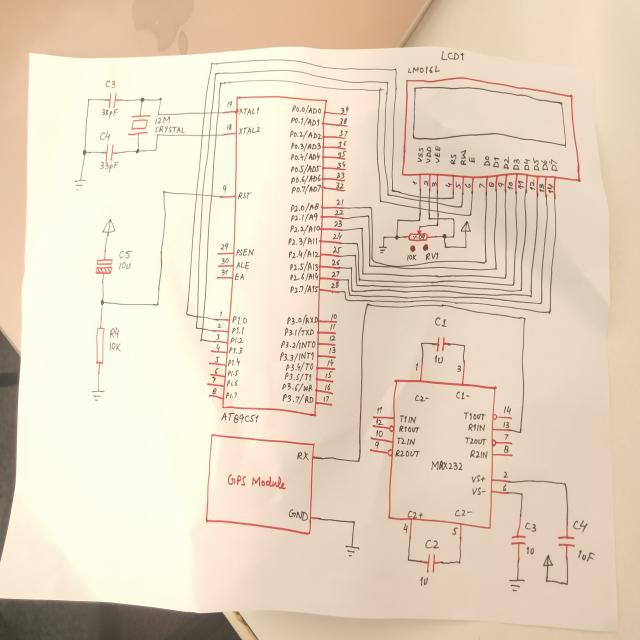capacitor: (95, 257, 114, 276), (556, 534, 576, 550), (105, 91, 121, 109), (425, 553, 438, 574), (104, 143, 118, 162), (510, 532, 527, 547), (435, 335, 446, 353)
crossover: (200, 326, 204, 332), (196, 314, 200, 320), (202, 314, 206, 320), (210, 193, 214, 198), (214, 133, 218, 137), (201, 192, 204, 197), (217, 110, 220, 115), (200, 133, 203, 138), (195, 192, 198, 197), (203, 111, 206, 115), (210, 110, 213, 114), (208, 133, 211, 137), (436, 201, 439, 205), (418, 199, 422, 202), (418, 207, 422, 210), (428, 208, 431, 212), (436, 210, 440, 213), (419, 195, 422, 198), (428, 196, 431, 199), (436, 197, 439, 200), (428, 200, 430, 203)
ground: (508, 577, 526, 592), (344, 544, 360, 558), (541, 554, 554, 569), (91, 389, 105, 402), (74, 179, 87, 191), (378, 245, 387, 254)
junction: (99, 298, 106, 306), (81, 148, 88, 156), (134, 146, 141, 154), (139, 96, 145, 104), (544, 576, 550, 584), (546, 308, 552, 316), (517, 428, 523, 436), (562, 480, 568, 488), (502, 274, 508, 282), (510, 281, 516, 288), (519, 490, 524, 498), (457, 558, 462, 566), (483, 258, 488, 266), (493, 264, 498, 272), (394, 234, 400, 240), (356, 458, 362, 464), (564, 580, 570, 586), (155, 301, 160, 308), (522, 315, 527, 322), (419, 340, 424, 347), (184, 310, 189, 317), (162, 188, 166, 196), (406, 557, 411, 563), (351, 519, 356, 525), (86, 96, 91, 102), (395, 217, 400, 223), (158, 96, 163, 102), (393, 66, 398, 72), (360, 270, 365, 276), (385, 80, 390, 86), (194, 325, 199, 331), (442, 233, 447, 239), (462, 342, 466, 349), (154, 146, 158, 153), (199, 337, 203, 344), (378, 85, 382, 92), (371, 256, 375, 263), (210, 61, 214, 67), (378, 198, 382, 204), (529, 293, 533, 299), (539, 300, 543, 306), (368, 263, 372, 269), (366, 302, 370, 307), (519, 287, 523, 292), (214, 71, 218, 76), (355, 242, 359, 247), (382, 235, 386, 240), (464, 245, 468, 249), (386, 193, 390, 197), (344, 298, 348, 302), (219, 81, 222, 86), (361, 226, 364, 231), (366, 214, 369, 219), (444, 245, 447, 249), (418, 218, 421, 222), (346, 278, 349, 282), (156, 133, 159, 137), (436, 223, 439, 227), (452, 234, 455, 238), (452, 217, 455, 221), (469, 212, 472, 216), (427, 217, 431, 220), (391, 188, 394, 192), (355, 283, 358, 287), (358, 278, 361, 282), (351, 289, 354, 293), (348, 294, 351, 298), (350, 266, 352, 271), (354, 253, 356, 258), (157, 112, 160, 115), (370, 206, 372, 210), (460, 204, 462, 208), (452, 196, 454, 200), (344, 290, 346, 294)
resistor: (406, 227, 435, 242), (95, 327, 106, 365)
source: (102, 218, 116, 233), (460, 220, 471, 234)
text: (227, 472, 286, 491), (221, 411, 260, 426), (430, 458, 464, 473), (406, 64, 444, 76), (282, 393, 314, 405), (288, 248, 320, 260), (438, 50, 465, 64), (280, 340, 316, 350), (286, 314, 318, 325), (290, 164, 322, 175), (279, 352, 314, 362), (290, 173, 321, 184), (290, 261, 318, 273), (290, 116, 320, 127), (282, 382, 312, 393), (290, 224, 320, 235), (290, 130, 322, 140), (290, 284, 319, 295), (288, 236, 317, 247), (292, 104, 322, 114), (284, 327, 314, 337), (291, 142, 321, 152), (290, 152, 320, 162), (291, 184, 321, 194), (288, 508, 309, 522), (285, 362, 314, 372), (290, 202, 319, 212), (284, 372, 312, 382), (290, 272, 318, 282), (463, 410, 486, 422), (393, 448, 420, 458), (464, 435, 488, 446), (578, 548, 596, 562), (466, 422, 487, 434), (290, 213, 318, 222), (155, 125, 186, 133), (396, 435, 418, 446), (398, 413, 418, 425), (100, 161, 120, 173), (398, 424, 419, 435), (572, 519, 589, 532), (469, 448, 489, 459), (239, 106, 259, 116), (238, 126, 260, 135), (100, 108, 118, 118), (454, 508, 473, 517), (425, 538, 439, 550), (471, 473, 486, 484), (236, 248, 254, 257), (407, 509, 423, 519), (434, 316, 447, 328), (296, 450, 309, 462), (414, 393, 429, 403), (434, 144, 441, 164), (472, 486, 486, 496), (456, 390, 470, 400), (119, 250, 133, 260), (237, 191, 252, 200), (232, 316, 247, 325), (155, 116, 170, 125), (109, 342, 122, 352), (524, 522, 537, 532), (549, 159, 559, 172), (532, 156, 540, 172), (417, 146, 424, 164), (425, 251, 439, 260), (236, 261, 250, 270), (502, 404, 512, 416), (228, 357, 240, 367), (228, 346, 243, 354), (109, 327, 119, 339), (100, 130, 110, 142), (460, 149, 467, 166), (434, 354, 444, 365), (232, 326, 244, 335), (426, 146, 432, 164), (118, 261, 130, 270), (230, 337, 244, 344), (226, 379, 238, 387), (227, 369, 239, 377), (483, 155, 491, 167), (512, 158, 520, 170), (541, 160, 549, 172), (225, 392, 238, 399), (502, 419, 511, 429), (340, 104, 349, 114), (419, 576, 428, 586), (526, 545, 534, 556), (105, 80, 116, 88), (546, 183, 554, 194), (492, 157, 500, 168), (449, 153, 456, 165), (375, 404, 384, 413), (234, 272, 244, 280), (332, 232, 342, 240), (524, 158, 530, 171), (406, 253, 417, 260), (504, 155, 509, 170), (330, 281, 339, 289), (337, 160, 346, 168), (402, 522, 408, 534), (375, 418, 384, 426), (220, 243, 229, 251), (529, 178, 535, 190), (333, 220, 342, 228), (336, 171, 345, 179), (335, 181, 344, 189), (339, 130, 348, 138), (338, 150, 347, 158), (217, 308, 224, 318), (332, 246, 342, 253), (334, 209, 344, 216), (414, 361, 420, 372), (330, 313, 338, 321), (328, 346, 336, 354), (375, 430, 383, 438), (326, 359, 334, 367), (220, 257, 228, 265), (220, 268, 228, 276), (331, 270, 339, 278), (336, 198, 344, 206), (339, 117, 347, 125), (338, 140, 347, 147), (517, 180, 524, 189), (332, 259, 341, 266), (452, 526, 458, 536), (455, 180, 461, 190), (507, 181, 513, 191), (538, 183, 544, 193), (502, 471, 509, 479), (325, 371, 333, 378), (324, 383, 331, 391), (468, 156, 475, 164), (456, 364, 462, 373), (504, 444, 509, 454), (329, 335, 336, 342), (226, 123, 232, 131), (226, 100, 232, 108), (502, 484, 508, 492), (503, 432, 509, 440), (374, 441, 380, 449), (330, 323, 336, 331), (478, 182, 486, 188), (222, 184, 227, 193), (323, 395, 329, 402), (214, 356, 220, 363), (212, 387, 217, 395), (216, 343, 220, 352), (446, 182, 452, 188), (431, 181, 437, 187), (488, 182, 494, 188), (214, 367, 219, 374), (212, 376, 216, 384), (215, 334, 220, 340), (465, 183, 471, 188), (498, 182, 504, 187), (424, 180, 428, 187), (217, 323, 222, 328), (412, 181, 417, 185)
